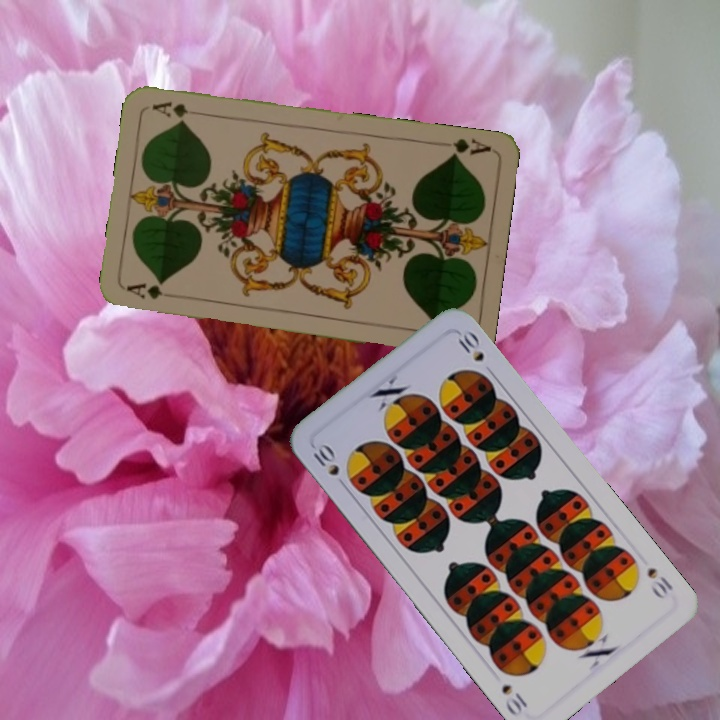GA: (446, 134, 494, 161), (123, 279, 165, 302)
S10: (309, 440, 350, 491), (643, 563, 676, 602)
